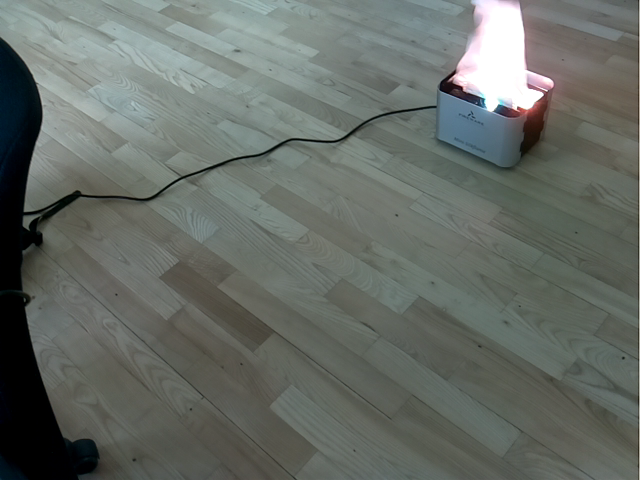fire: (453, 1, 534, 111)
